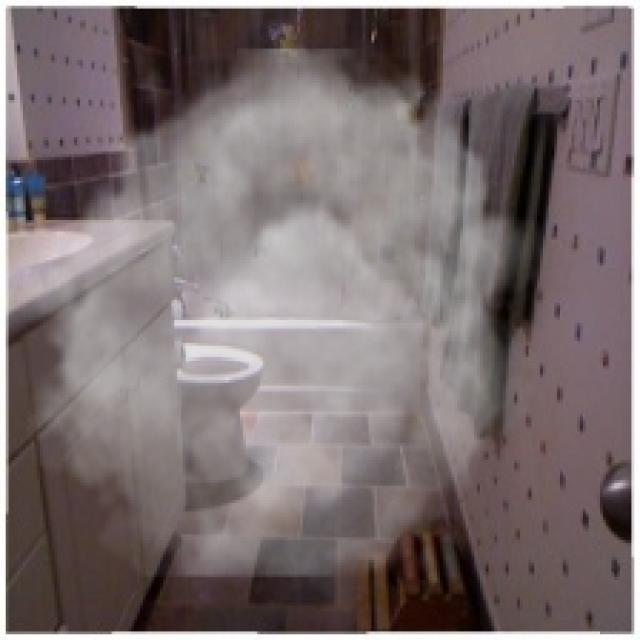Smoke: (9, 49, 548, 578)
